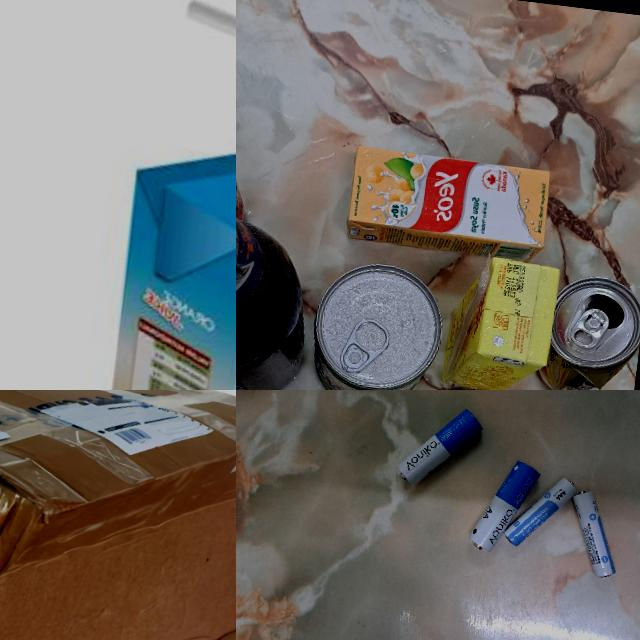aba de lata: (336, 315, 392, 378), (567, 302, 611, 350)
bateria: (395, 400, 483, 492), (466, 456, 540, 557), (502, 471, 576, 553), (562, 488, 624, 578)
caixinha: (85, 111, 236, 390), (342, 144, 550, 261), (440, 250, 559, 390)
garrafa de vidro: (236, 164, 325, 390)
lata: (305, 254, 447, 390), (537, 272, 640, 390)
papelão: (0, 390, 236, 640)
